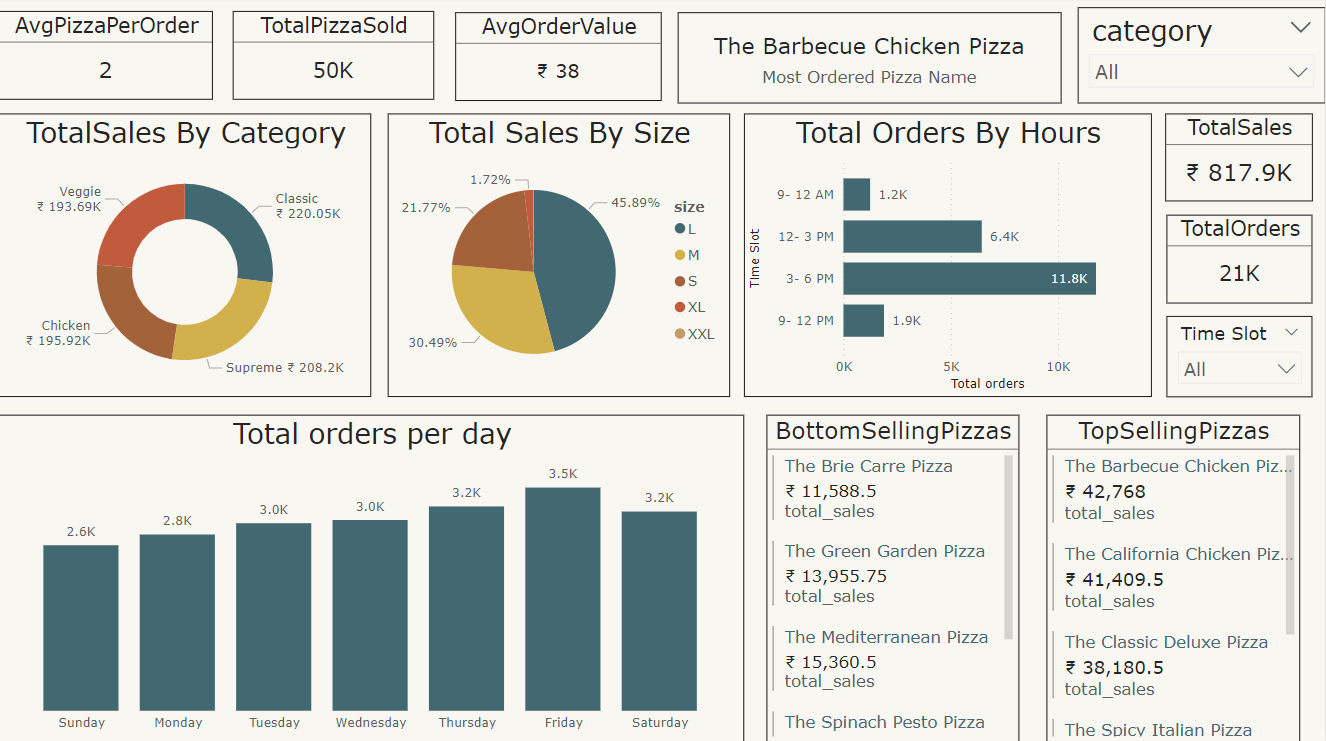

The page's visual inventory and layout, read from the dashboard file:
{"tool":"powerbi","page":{"name":"Page 1","canvas":[1280,720],"ordinal":0},"visuals":[{"type":"card","fields":{"Values":["order details.Most Ordered Pizza Name"]},"box":[655.1,15.7,370.4,88.1],"z":0},{"type":"card","title":"TotalSales","fields":{"Values":["order details.total_sales"]},"box":[1125.6,113.4,142.4,84.5],"z":1000},{"type":"slicer","fields":{"Values":["pizza types.category"]},"box":[1041.2,10.9,238.9,92.9],"z":2000},{"type":"donutChart","title":"TotalSales By Category","fields":{"Category":["pizza types.category"],"Y":["Sum(order details.sales)"]},"box":[0,113.4,359.5,273.9],"z":3000},{"type":"card","title":"TotalOrders","fields":{"Values":["order details.Total orders"]},"box":[1126.8,211.1,141.2,85.7],"z":4000},{"type":"card","title":"AvgOrderValue","fields":{"Values":["order details.Averageordervalue"]},"box":[440.4,15.7,199.1,85.7],"z":5000},{"type":"card","title":"TotalPizzaSold","fields":{"Values":["order details.Total Quantity"]},"box":[225.6,14.5,194.2,85.7],"z":6000},{"type":"card","title":"AvgPizzaPerOrder","fields":{"Values":["order details.averagepizza perorder"]},"box":[0,14.5,206.3,85.7],"z":7000},{"type":"pieChart","title":"Total Sales By Size","fields":{"Category":["pizzas.size"],"Y":["Sum(order details.sales)"]},"box":[375.2,113.4,330.6,273.9],"z":8000},{"type":"columnChart","title":"Total orders per day","fields":{"Y":["order details.Total orders"],"Category":["orders.Day Name"]},"box":[0,404.2,719,316.1],"z":9000},{"type":"barChart","title":"Total Orders By Hours","fields":{"Y":["order details.Total orders"],"Category":["orders.Time Slot"]},"box":[719,113.4,393.3,273.9],"z":10000},{"type":"multiRowCard","title":"TopSellingPizzas","fields":{"Values":["pizza types.name","order details.total_sales"]},"box":[1011,404.2,244.9,316.1],"z":11000},{"type":"multiRowCard","title":"BottomSellingPizzas","fields":{"Values":["pizza types.name","order details.total_sales"]},"box":[740.8,404.2,243.7,316.1],"z":12000},{"type":"slicer","fields":{"Values":["orders.Time Slot"]},"box":[1126.8,308.8,141.2,78.4],"z":13000}]}

Visuals, with their boxes in screenshot pixels (x1, y1, x2, y2), scaled from the page's 1280x720 canvas onto the 1326x741 screenshot:
card - order details.Most Ordered Pizza Name: pyautogui.locateOnScreen(679, 16, 1062, 107)
"TotalSales" card: pyautogui.locateOnScreen(1166, 117, 1314, 204)
slicer - pizza types.category: pyautogui.locateOnScreen(1079, 11, 1325, 107)
"TotalSales By Category" donutChart: pyautogui.locateOnScreen(0, 117, 372, 399)
"TotalOrders" card: pyautogui.locateOnScreen(1167, 217, 1314, 305)
"AvgOrderValue" card: pyautogui.locateOnScreen(456, 16, 662, 104)
"TotalPizzaSold" card: pyautogui.locateOnScreen(234, 15, 435, 103)
"AvgPizzaPerOrder" card: pyautogui.locateOnScreen(0, 15, 214, 103)
"Total Sales By Size" pieChart: pyautogui.locateOnScreen(389, 117, 731, 399)
"Total orders per day" columnChart: pyautogui.locateOnScreen(0, 416, 745, 740)
"Total Orders By Hours" barChart: pyautogui.locateOnScreen(745, 117, 1152, 399)
"TopSellingPizzas" multiRowCard: pyautogui.locateOnScreen(1047, 416, 1301, 740)
"BottomSellingPizzas" multiRowCard: pyautogui.locateOnScreen(767, 416, 1020, 740)
slicer - orders.Time Slot: pyautogui.locateOnScreen(1167, 318, 1314, 398)
